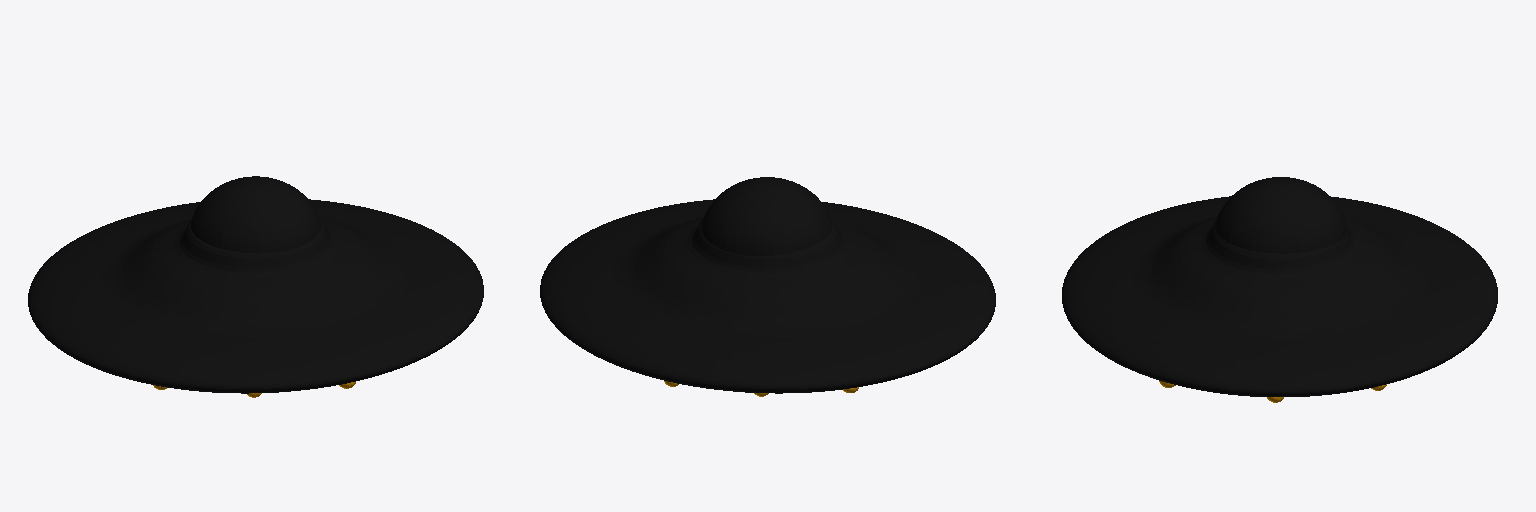
File: flyingSaucer.obj
3 renders of one model, left to right at view 1: azimuth 30°, elevation 25°; view 2: azimuth 150°, elevation 25°; view 3: azimuth 270°, elevation 25°, orthographic.
Size of the model in its own units: 9.74 by 3.35 by 9.19.